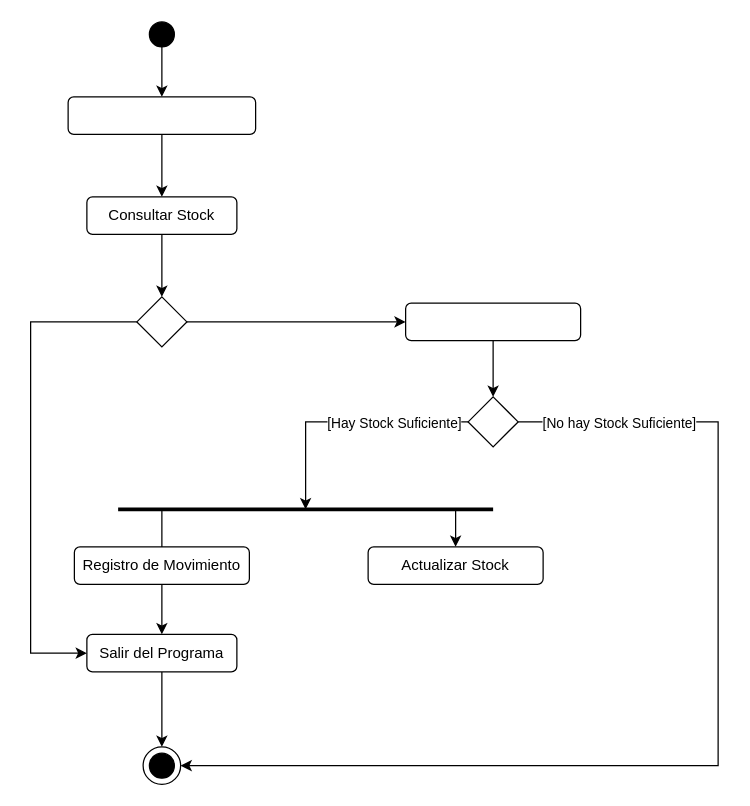
This 750x806 diagram has some shape labels left out. Each missing label, with the centre of its shape:
Acceder al Inventario: point 161,115
Realizar movimiento de Stock: point 492,321
